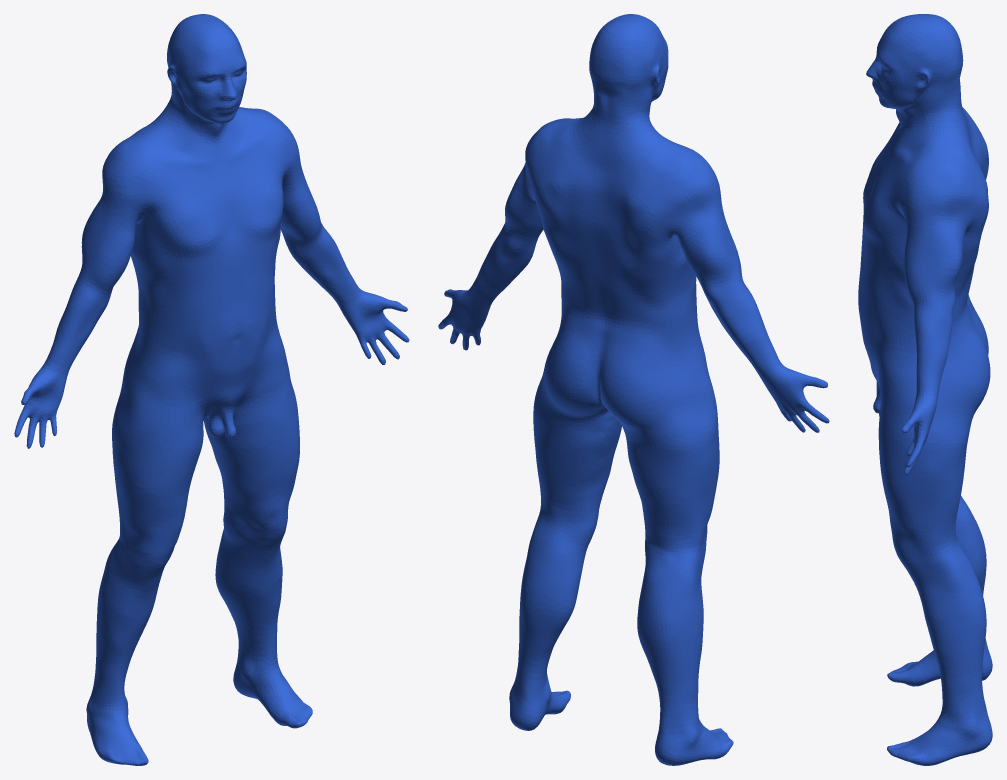
File: VH_M_Skin_0.2.glb
The picture shows the model from 3 angles, left to right: view 1: azimuth 30°, elevation 25°; view 2: azimuth 150°, elevation 25°; view 3: azimuth 270°, elevation 25°; orthographic projection. The views are drawn at different scales.
Parts seen in each view (by area): view 1: VH_M_skin; view 2: VH_M_skin; view 3: VH_M_skin.
Part boxes in pixels (left/top/right/bottom): VH_M_skin: left=14, top=14, right=409, bottom=765; VH_M_skin: left=438, top=14, right=829, bottom=765; VH_M_skin: left=858, top=14, right=992, bottom=765.
Bounding box in the file's own units: 1.05 × 1.83 × 0.3164.
